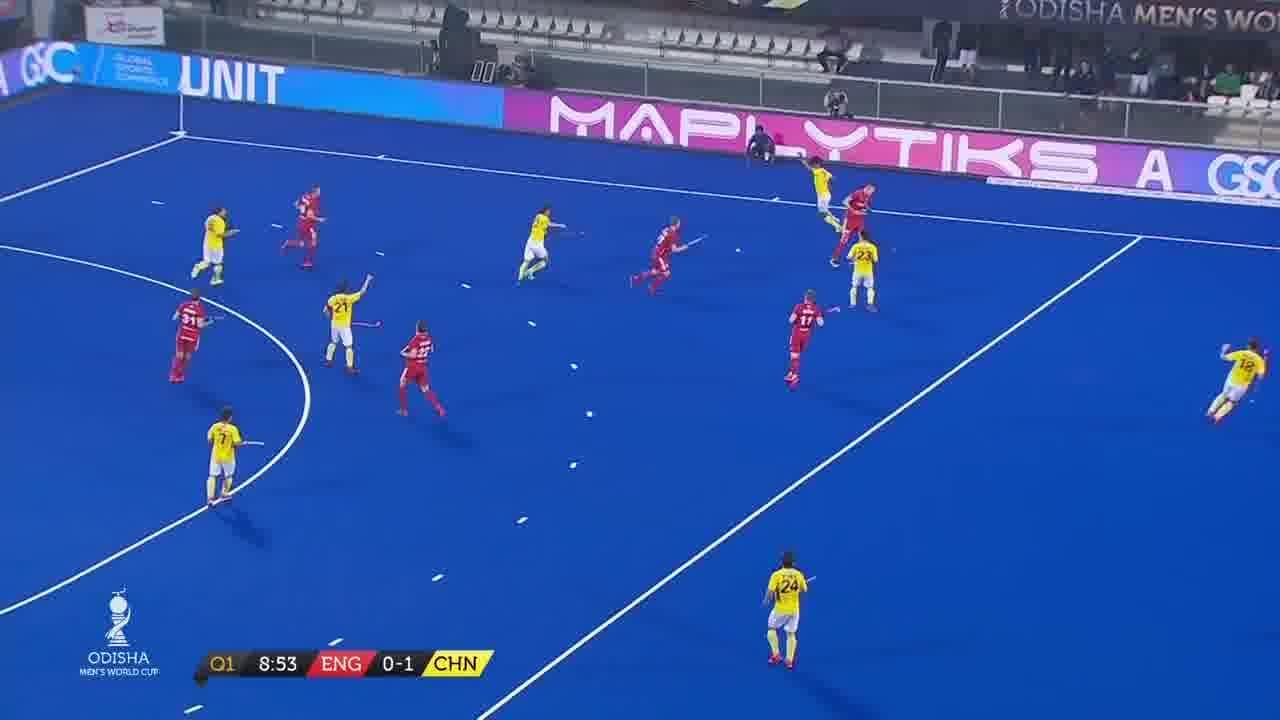ball: (733, 244, 743, 254)
